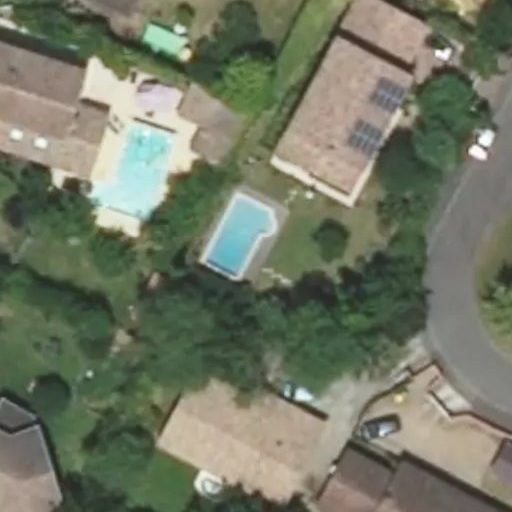pool: (102, 119, 173, 219), (204, 194, 276, 277)
